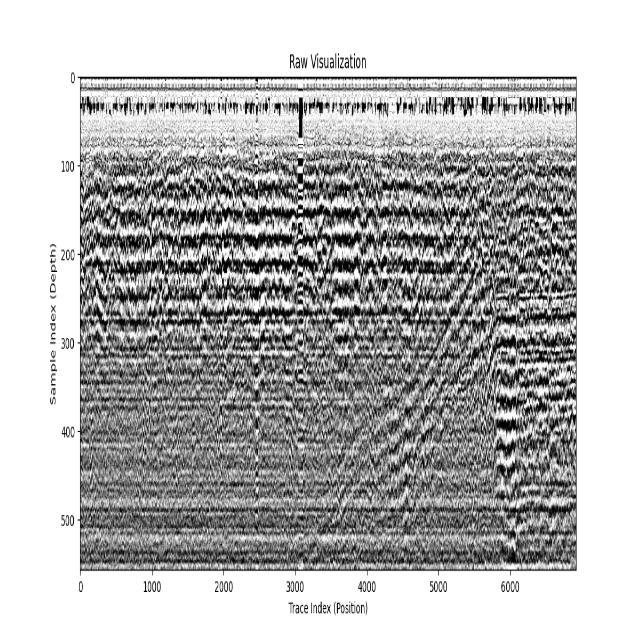anomaly: (274, 238, 526, 554)
